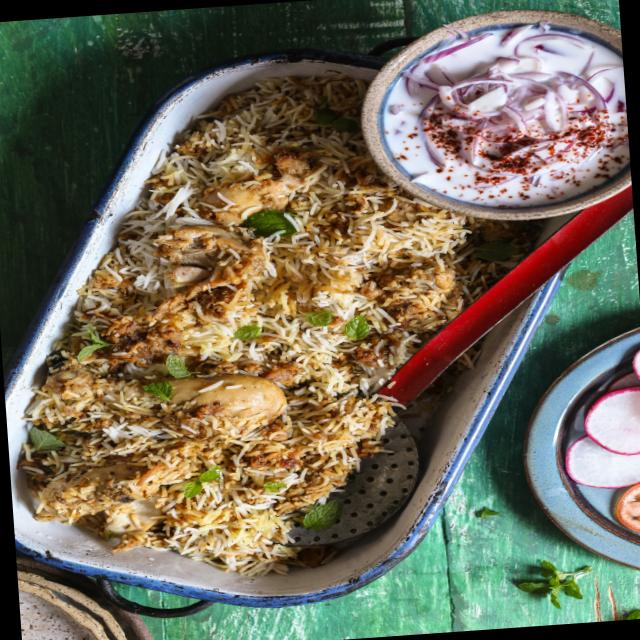Biryani: (0, 52, 565, 596)
